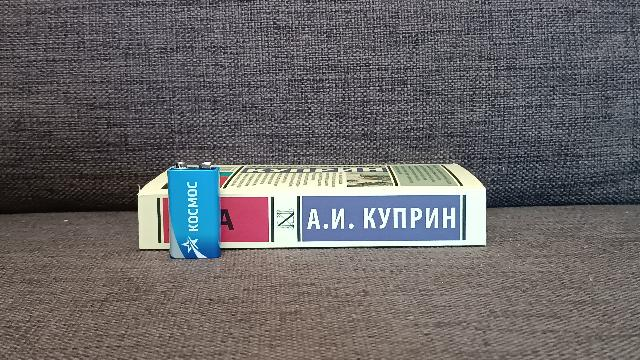book-s-spine: (138, 189, 486, 250)
